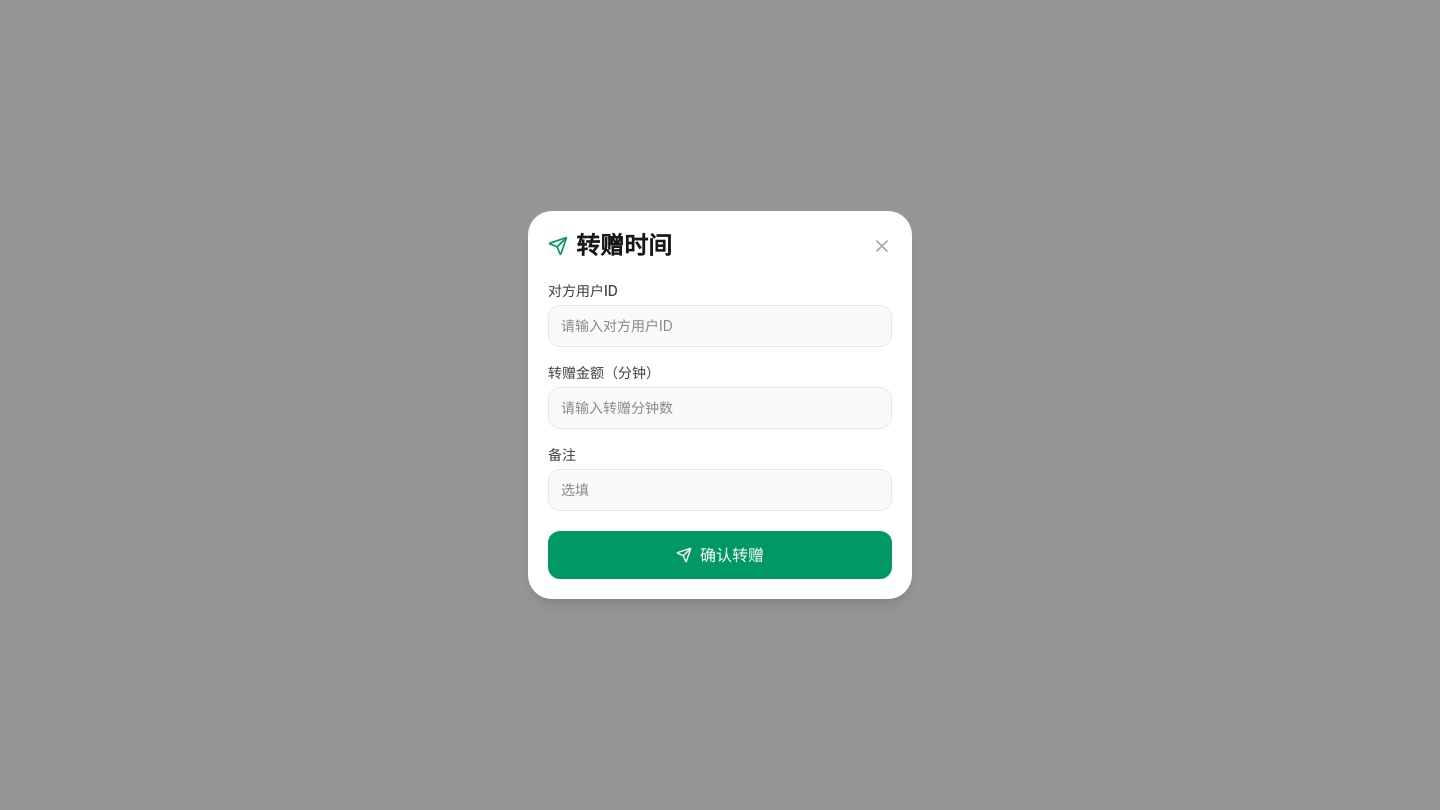
it: TransferModal 转赠时间币弹窗 › 字段级校验 › 金额为 0 时点击确认转赠校验失败（必须为正整数）
This screenshot has width=1440, height=810.
In the field with placeholder "请输入对方用户ID": (720, 326) [548,305,892,347], type "user-99"
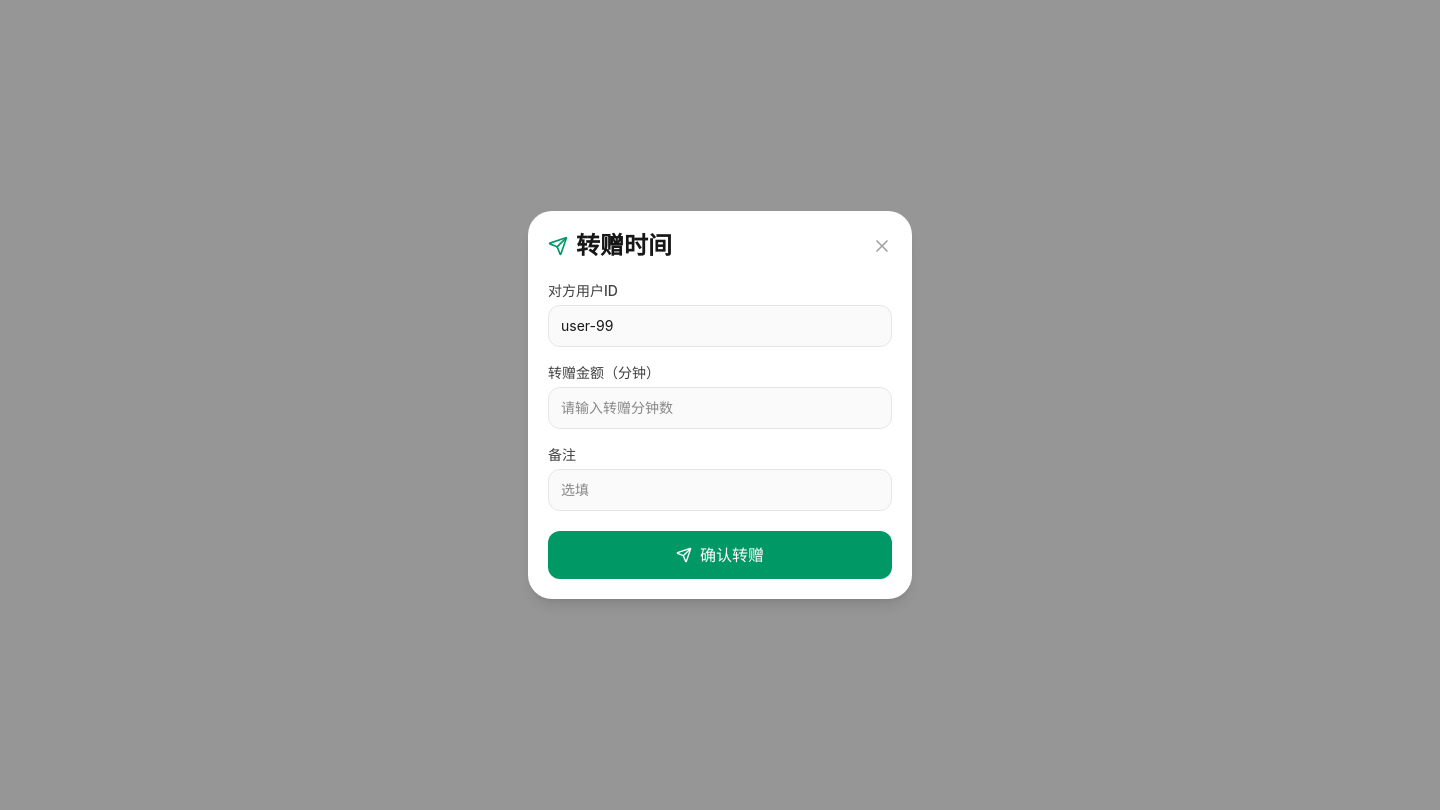
In the number field with placeholder "请输入转赠分钟数": (720, 408) [548,387,892,429], type "0"
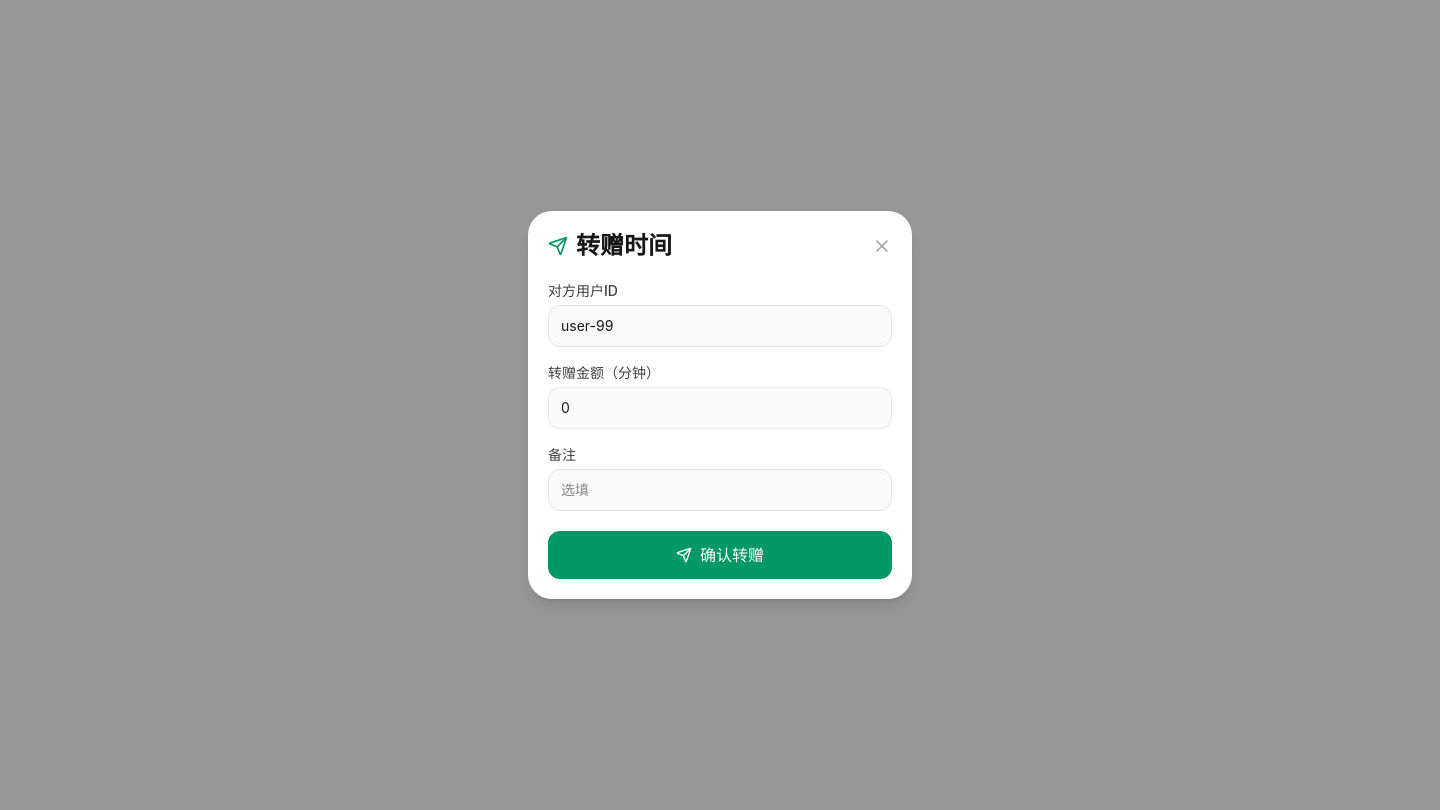
In the field with placeholder "选填": (720, 490) [548,469,892,511], type "感谢帮忙"
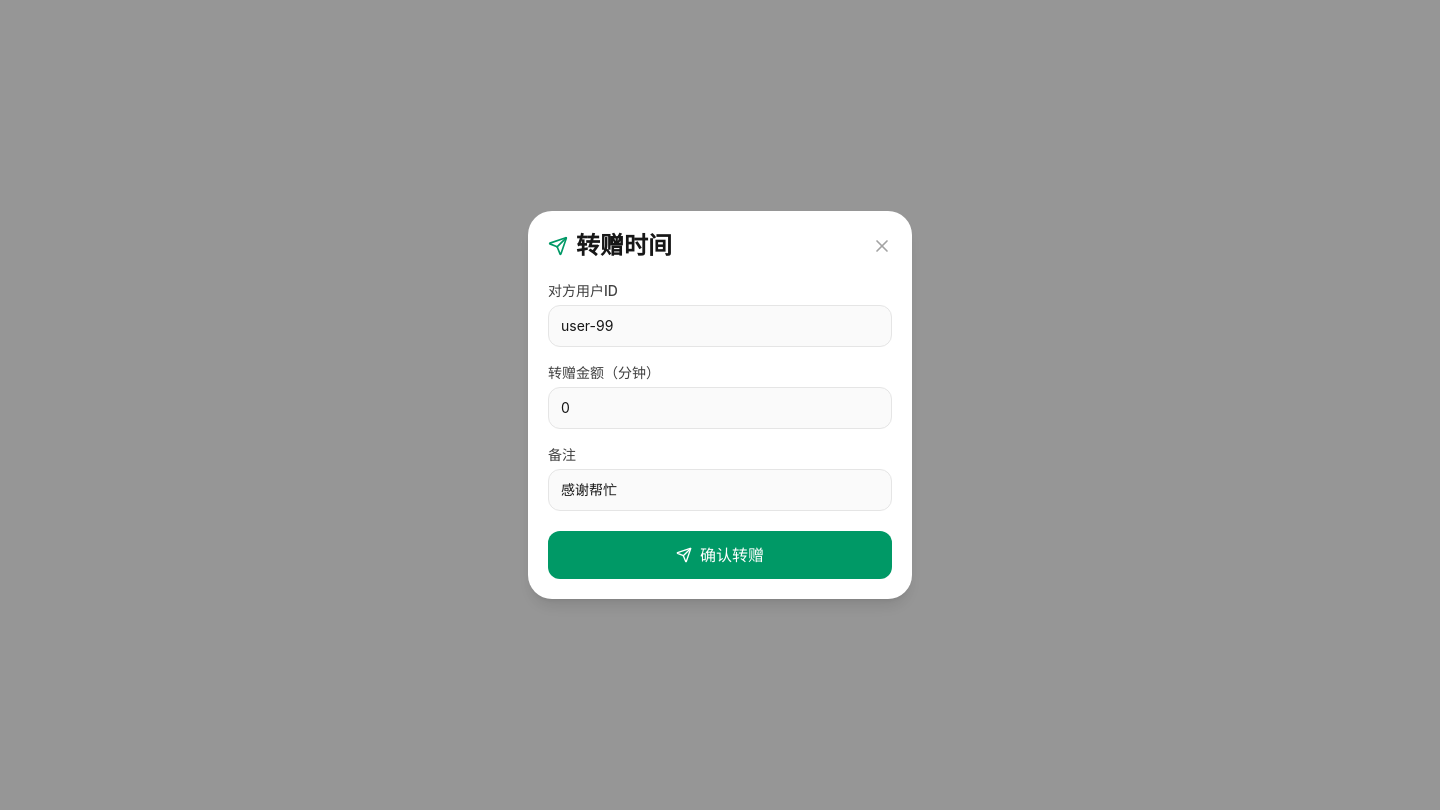
Click the button "确认转赠": (720, 555) [548,531,892,579]
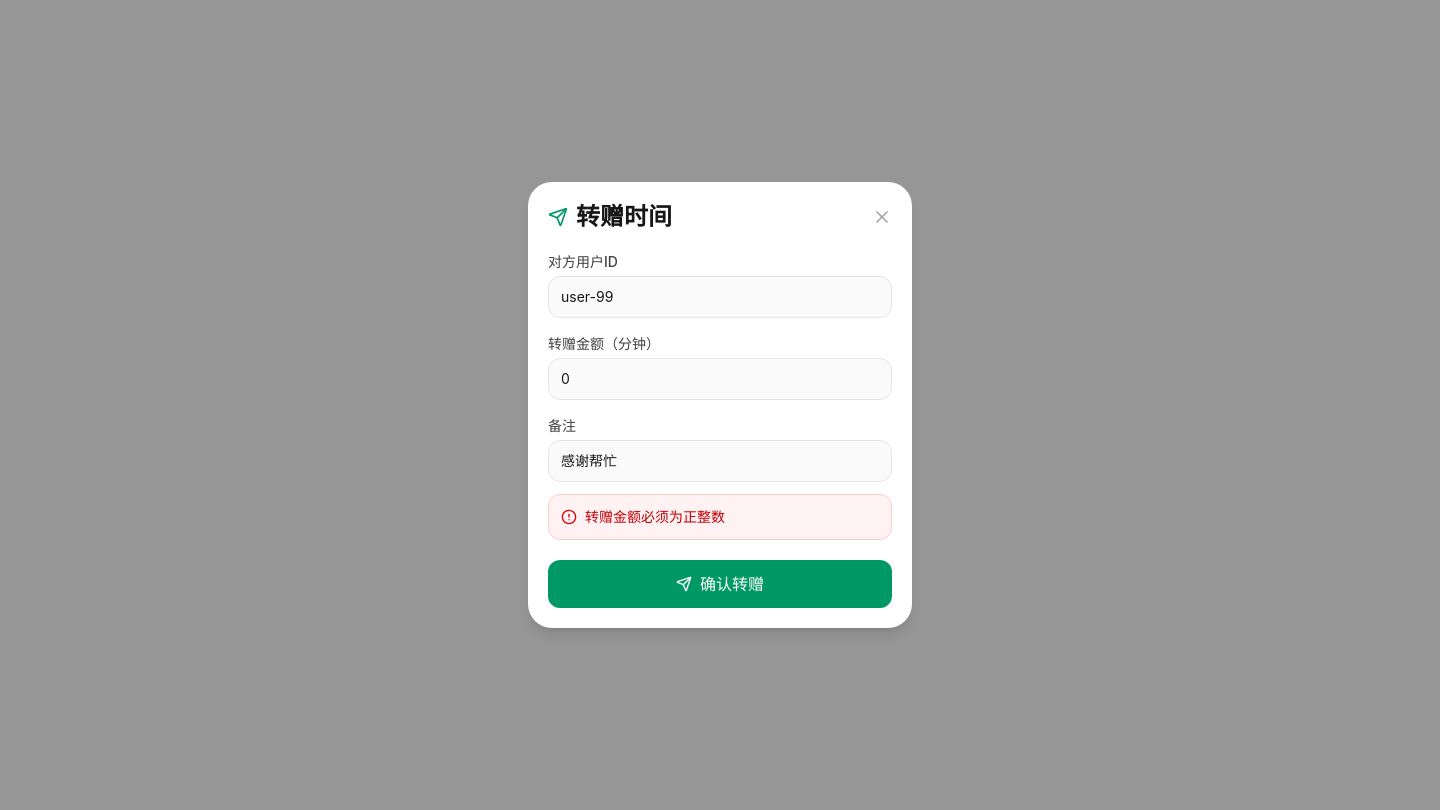
Result: the text "转赠金额必须为正整数" is shown at [585,507,725,527]
